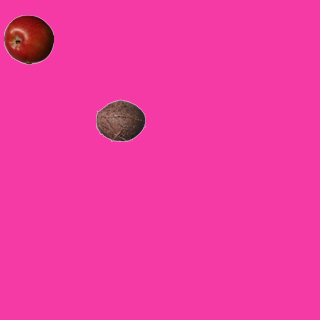Apple Braeburn: (3, 14, 53, 64)
Cocos: (95, 95, 145, 145)
